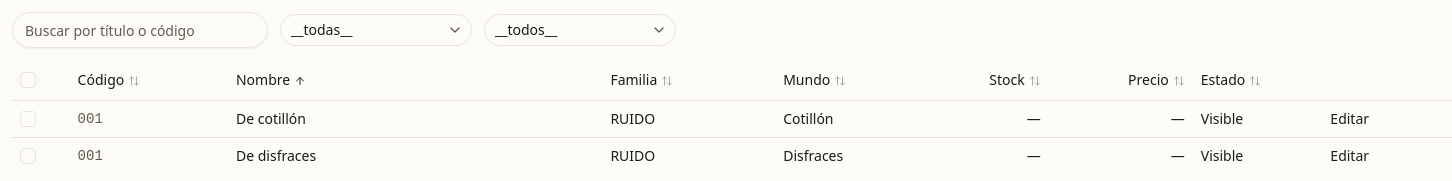
Test case: PublicadoTab — filtro de mundo › elegir un mundo deja sólo esos productos
The image size is (1452, 181).
Expected: the row "001 De cotillón RUIDO Cotillón — — Visible Editar" is shown, x1=12 y1=100 x2=1451 y2=137
What coordinates should you click on to do the following:
click the dropdown named "Filtrar por mundo"
I would click on:
 (580, 30)
Its box is x1=484 y1=14 x2=676 y2=46.
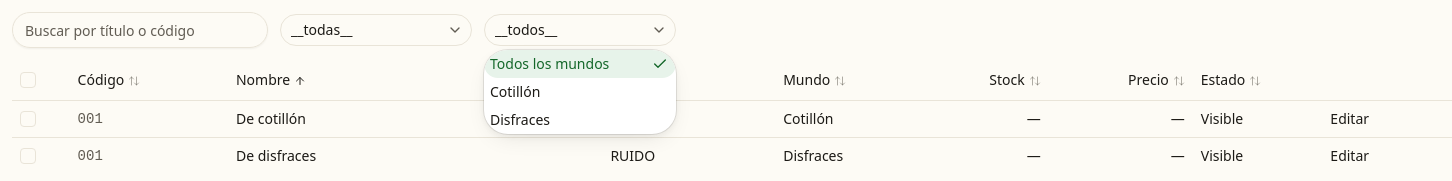
What coordinates should you click on to do the following:
click the option "Disfraces"
I would click on:
 (520, 120)
Its box is x1=490 y1=110 x2=550 y2=129.
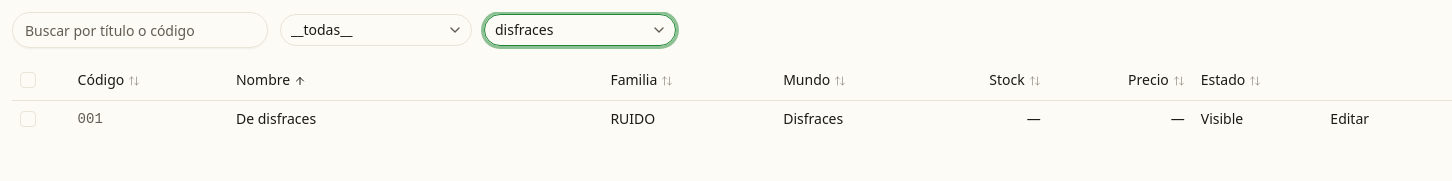
Expected: the text "De disfraces" is shown, x1=228 y1=100 x2=602 y2=136
Expected: the text "De cotillón" is gone
